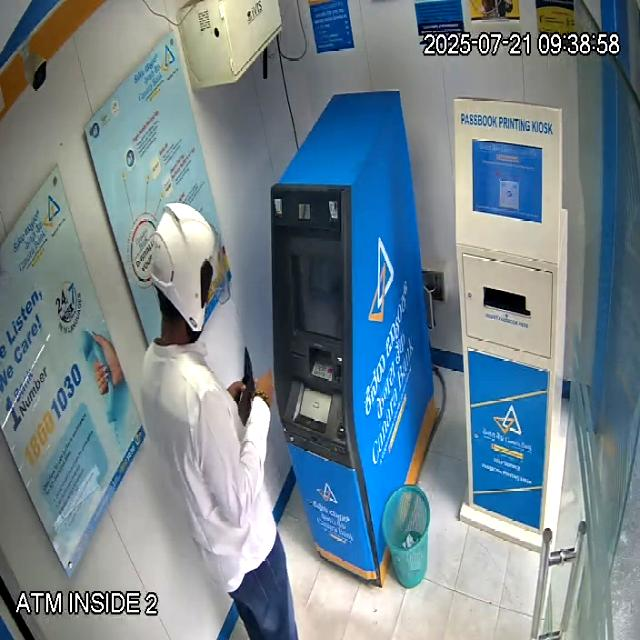helmet: (150, 201, 232, 346)
